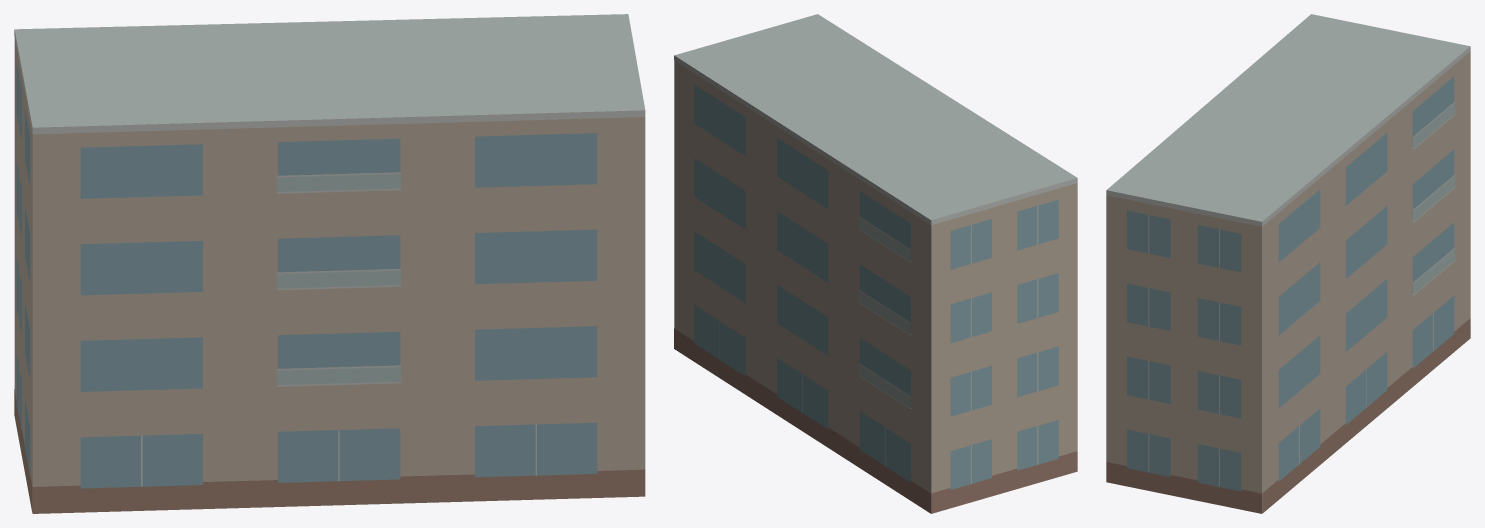
File: survey-upis-32887876.glb
The picture shows the model from 3 angles, left to right: view 1: azimuth 30°, elevation 25°; view 2: azimuth 150°, elevation 25°; view 3: azimuth 270°, elevation 25°; orthographic projection. The views are drawn at different scales.
Visible parts, largest first — view 1: survey-upis-32887876.tmp; view 2: survey-upis-32887876.tmp; view 3: survey-upis-32887876.tmp.
Boxes of the visible parts, x1,y1,x2,y2 form: survey-upis-32887876.tmp: [14, 14, 645, 513]; survey-upis-32887876.tmp: [674, 14, 1077, 513]; survey-upis-32887876.tmp: [1106, 14, 1470, 513].
Bounding box in the file's own units: 21.53 × 14.1 × 15.95.
